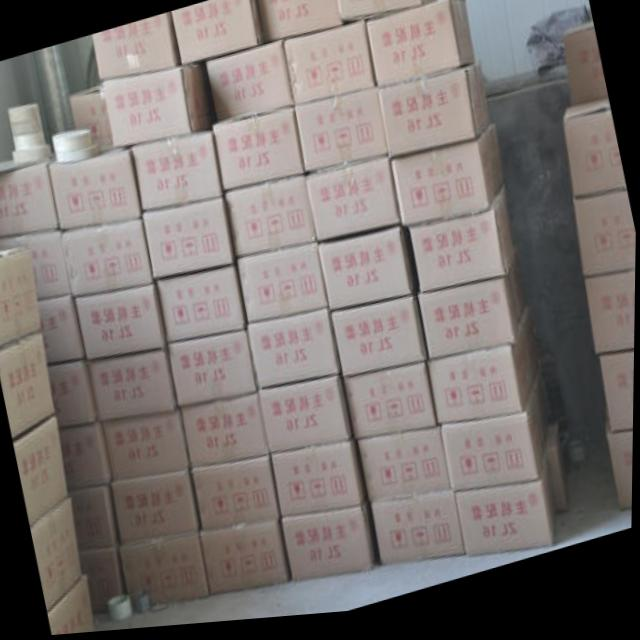box: (442, 377, 549, 497), (429, 315, 540, 430), (391, 130, 505, 233), (419, 261, 527, 367), (410, 195, 518, 299), (379, 70, 491, 163), (456, 461, 557, 564), (366, 2, 475, 93), (102, 65, 216, 148), (319, 232, 419, 316), (282, 24, 375, 110), (294, 93, 389, 177), (306, 162, 401, 246), (283, 502, 378, 585), (332, 302, 428, 382), (212, 111, 304, 194), (143, 198, 235, 281), (259, 379, 355, 457), (225, 180, 316, 261), (49, 150, 142, 229), (273, 444, 367, 522), (248, 313, 342, 391), (205, 44, 294, 126), (238, 247, 329, 325), (131, 134, 222, 212), (345, 369, 437, 445), (75, 284, 167, 360), (61, 221, 153, 297), (359, 434, 453, 507), (372, 498, 467, 570), (201, 523, 291, 599), (168, 334, 258, 409), (87, 350, 179, 422), (158, 269, 245, 345), (181, 398, 270, 472), (193, 460, 281, 533), (121, 537, 210, 609), (111, 473, 200, 545), (172, 0, 265, 68), (564, 107, 627, 206), (103, 411, 189, 483), (92, 13, 181, 81), (15, 414, 69, 525), (0, 330, 56, 437), (33, 497, 83, 611), (573, 198, 637, 287), (0, 232, 72, 301), (0, 157, 60, 237), (584, 280, 636, 363), (256, 0, 343, 46), (0, 249, 41, 346), (562, 32, 608, 114), (70, 483, 122, 553), (60, 423, 114, 490), (80, 543, 129, 614), (49, 361, 97, 429), (38, 297, 85, 366), (607, 415, 634, 521), (50, 576, 97, 636), (601, 362, 635, 442), (69, 86, 112, 148), (337, 0, 437, 24)
